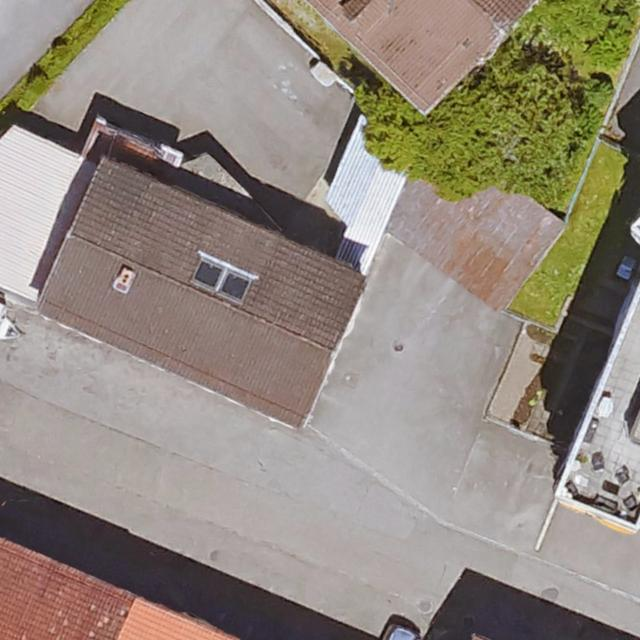tree: (356, 46, 582, 199)
